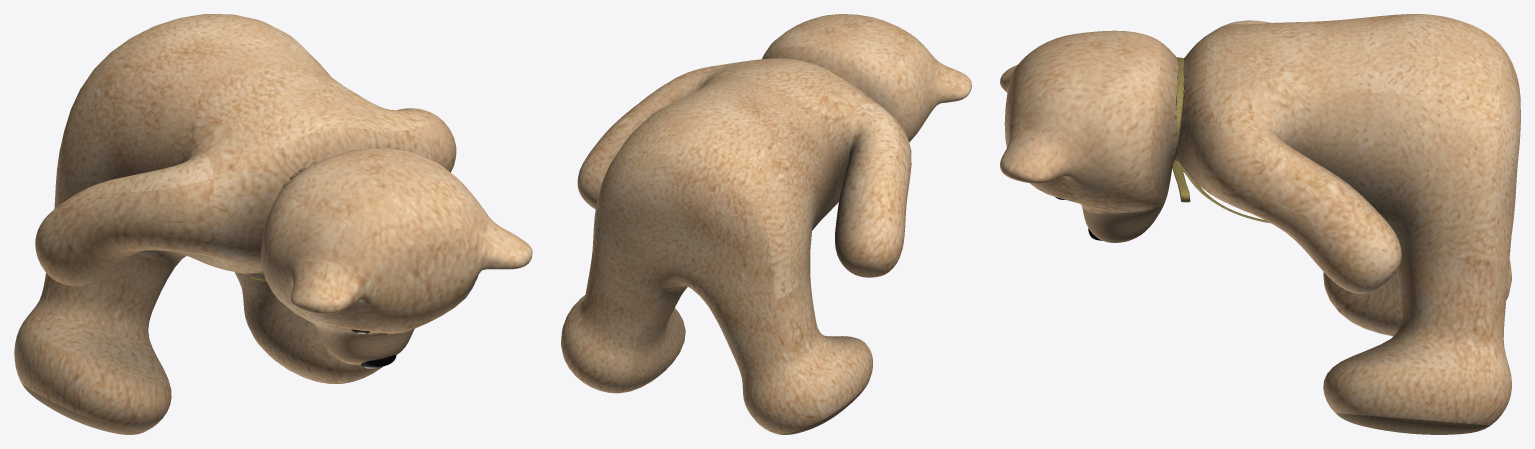
Rendered from teddy_bear.glb.
3 renders of one model, left to right at view 1: azimuth 30°, elevation 25°; view 2: azimuth 150°, elevation 25°; view 3: azimuth 270°, elevation 25°, orthographic. The views are drawn at different scales.
Visible parts, largest first — view 1: teddy3; view 2: teddy3; view 3: teddy3.
Boxes of the visible parts, x1,y1,x2,y2 form: teddy3: (14,14,532,434); teddy3: (561,14,971,434); teddy3: (1000,14,1520,434).
Size of the model in its own units: 26.06 by 23.14 by 30.83.
1 material, 1 textured.
